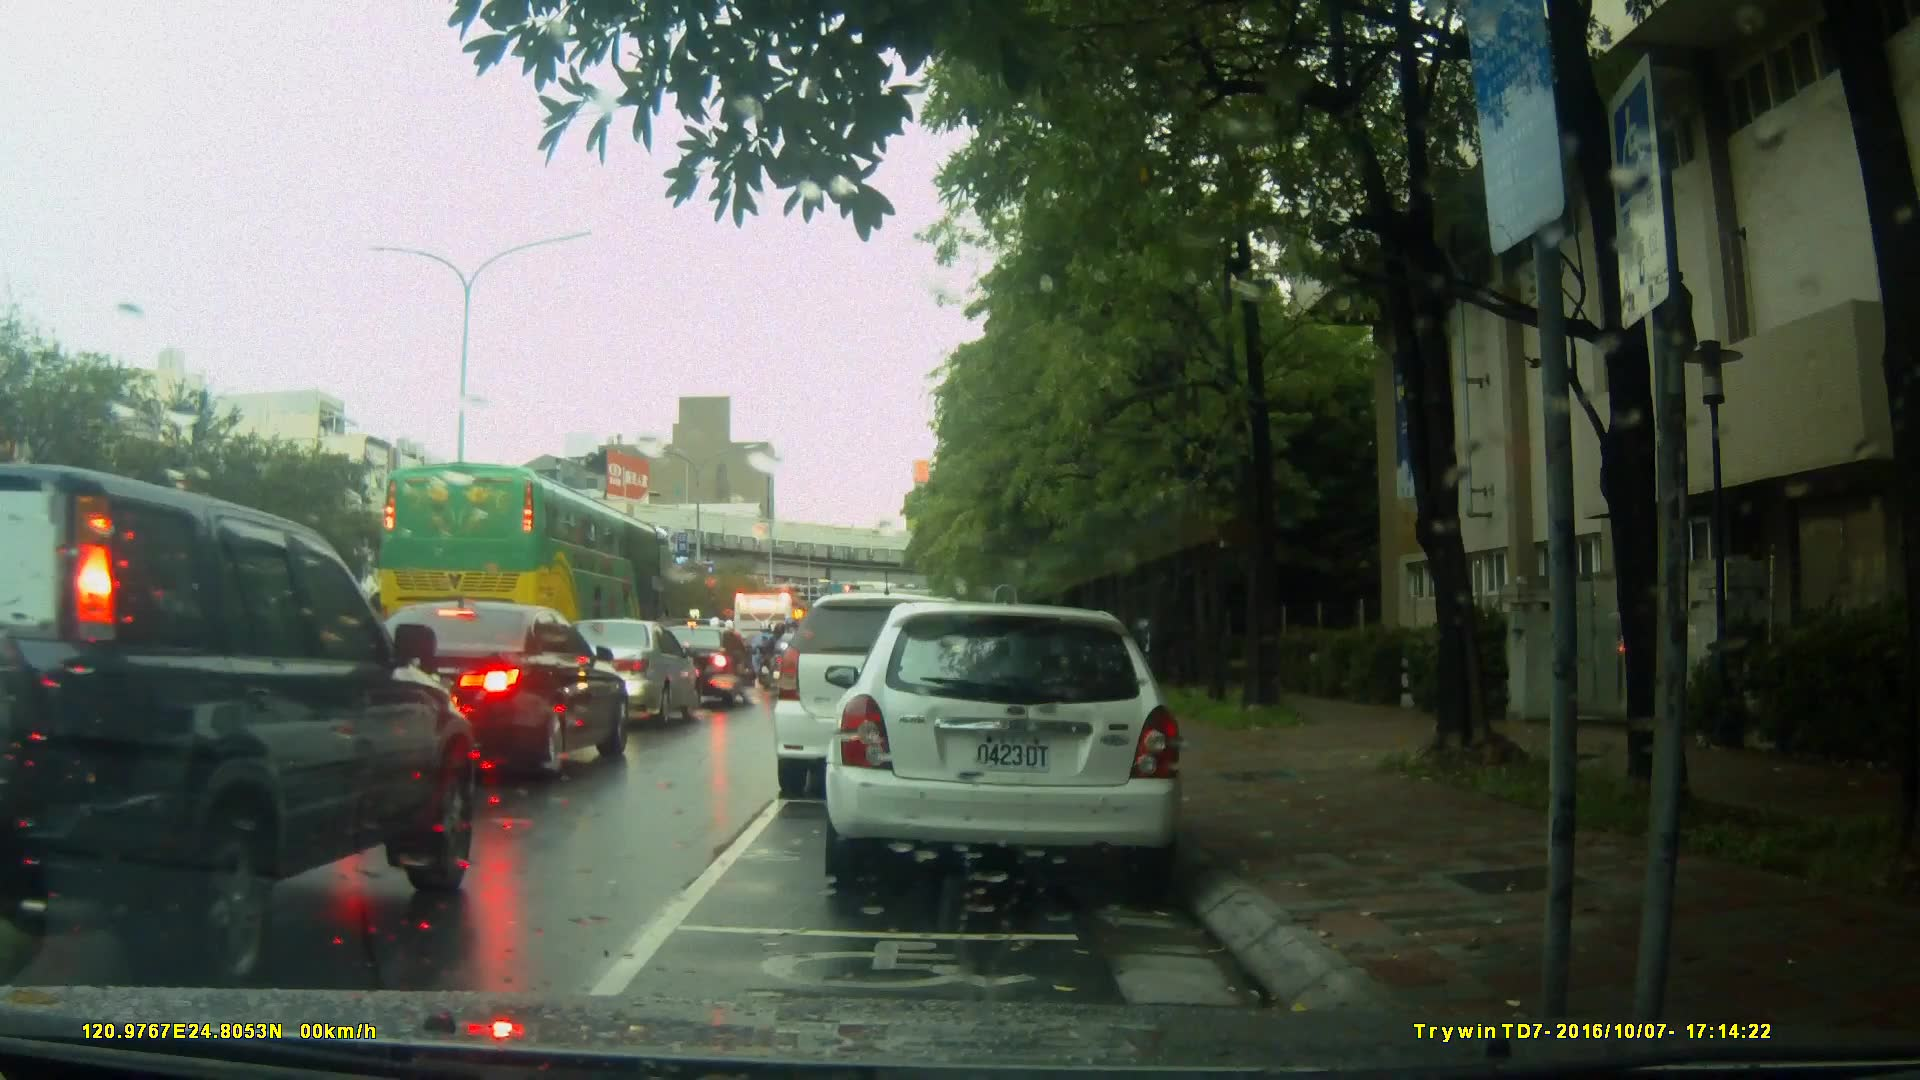rider: (773, 618, 803, 705)
vehicle: (1, 459, 485, 984), (831, 592, 1196, 897), (372, 460, 670, 659), (327, 600, 633, 787), (778, 599, 999, 802), (539, 618, 703, 731), (654, 624, 760, 712)
